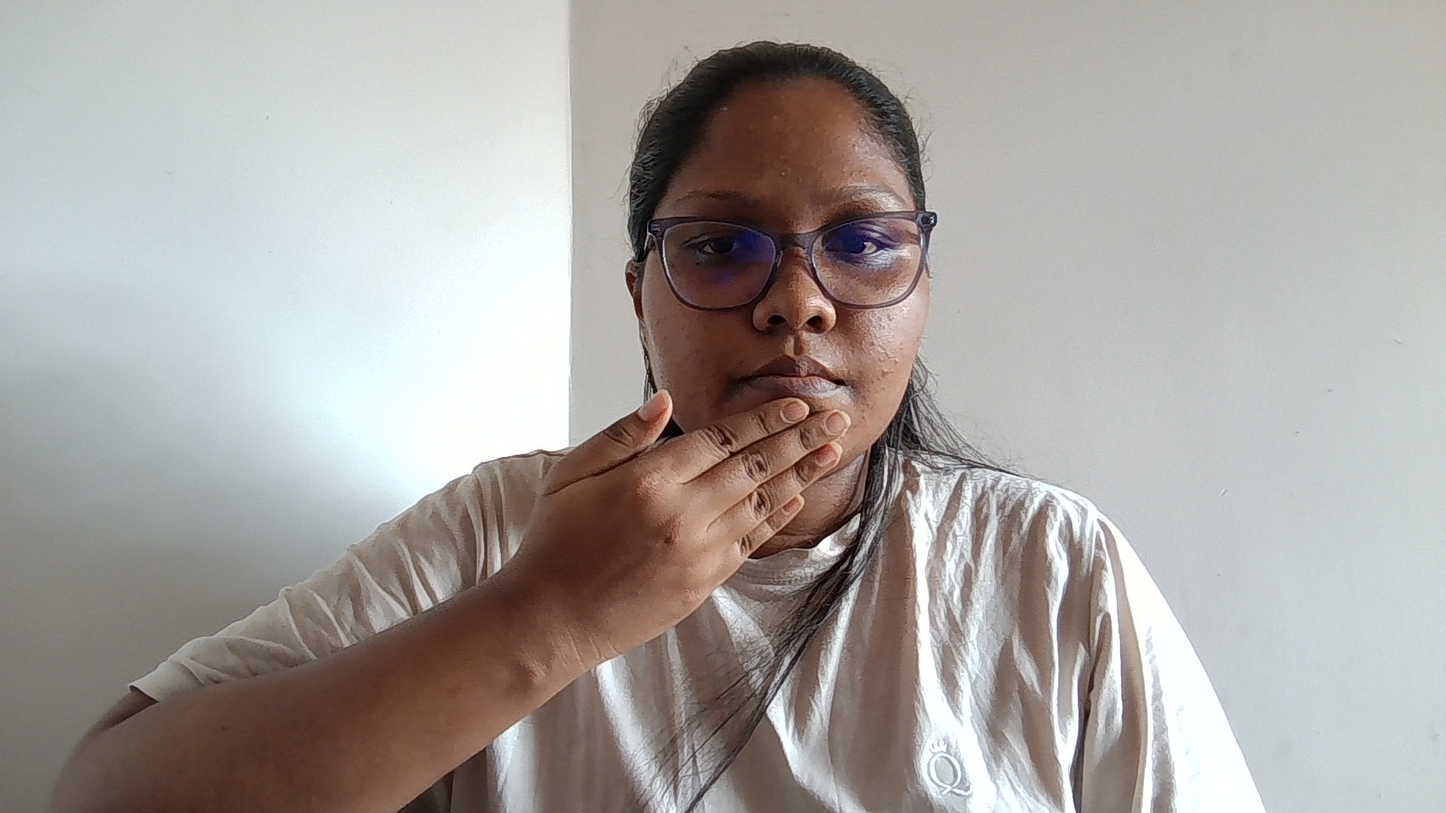Thank You: (450, 337, 1048, 772)
